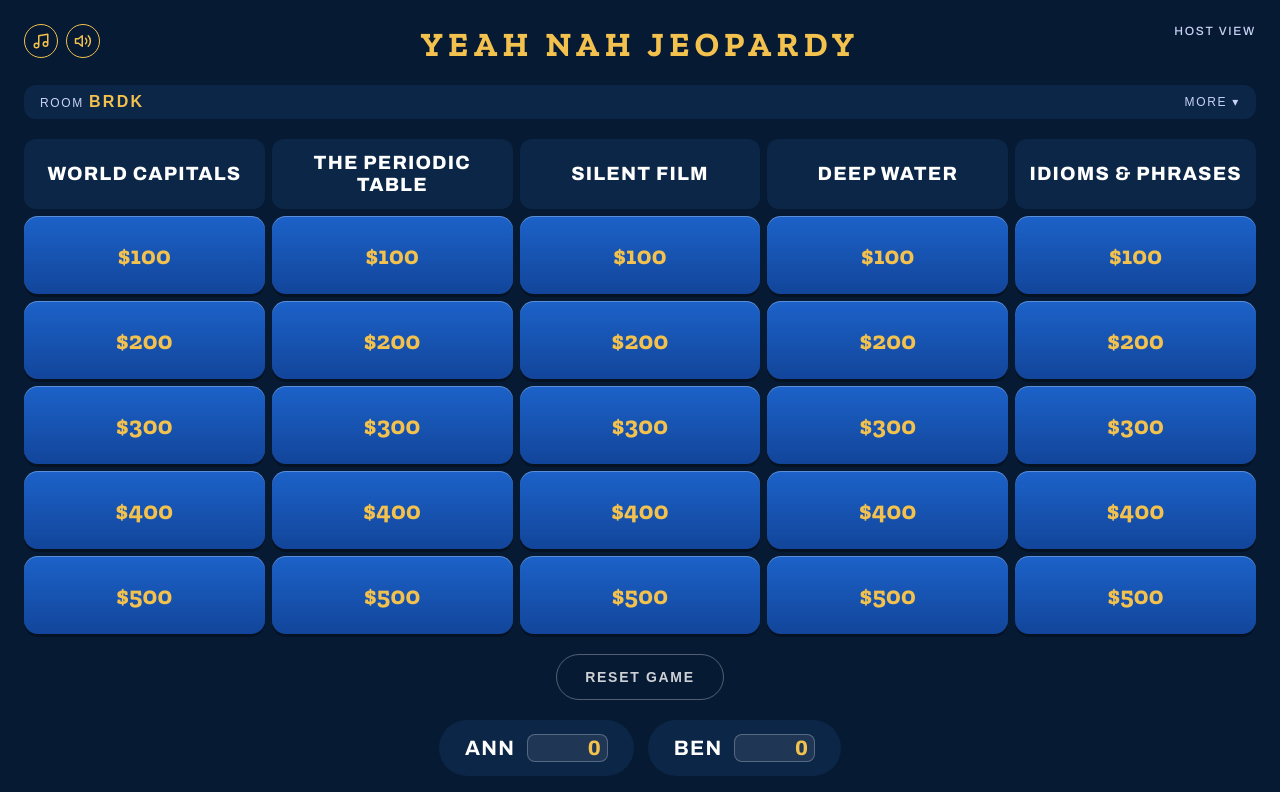
Test: HostPage Room panel › collapses to a Room Code strip during play, which expands on demand
Check: the text "2 Players" is not shown
What coordinates should you click on to do the following:
click the button "Room BRDK More ▾"
I would click on:
 (65, 103)
Its box is [24,85,1256,119].
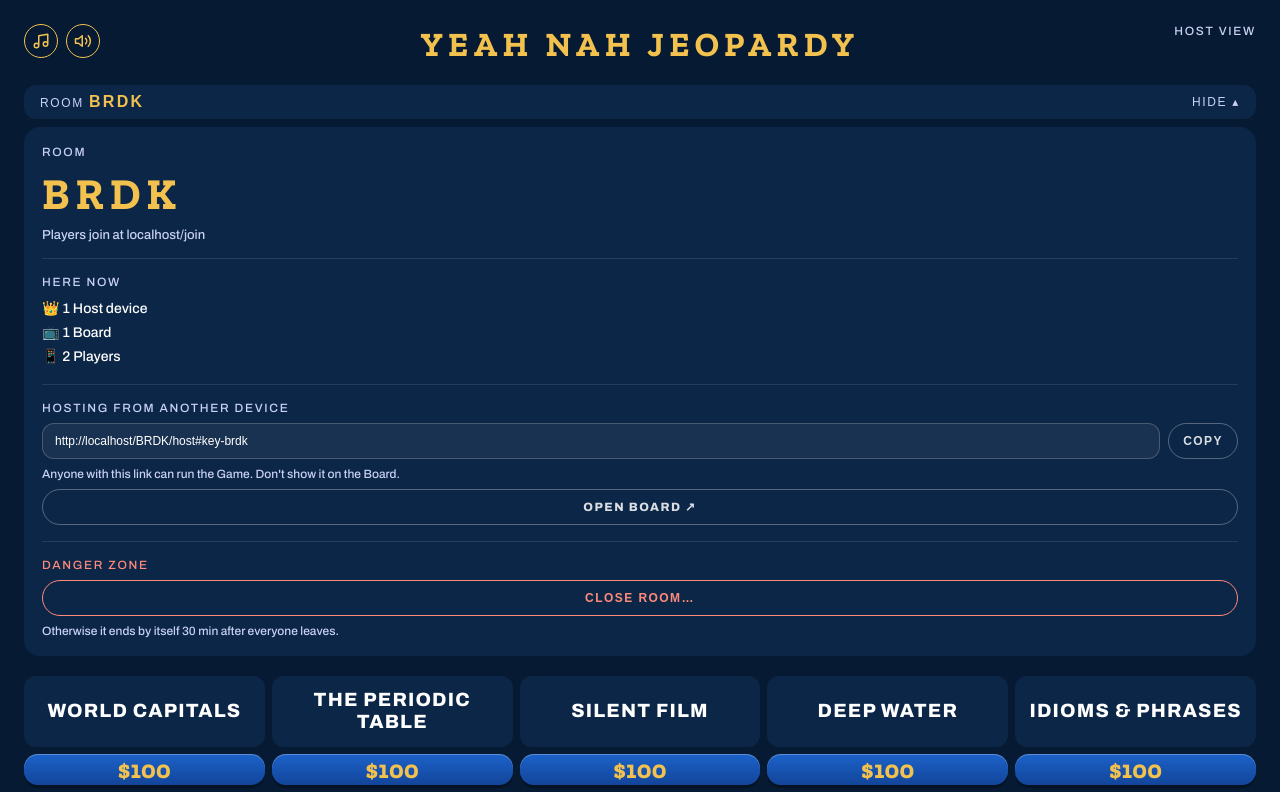
Check: the button "Room BRDK Hide ▴" is expanded
Check: the text "2 Players" is shown, box [62,349,121,364]
Check: the link "Open Board ↗" is shown, box [42,489,1238,525]
What coordinates should you click on to do the following:
click the button "Room BRDK Hide ▴"
I would click on:
 (65, 103)
Its box is [24,85,1256,119].
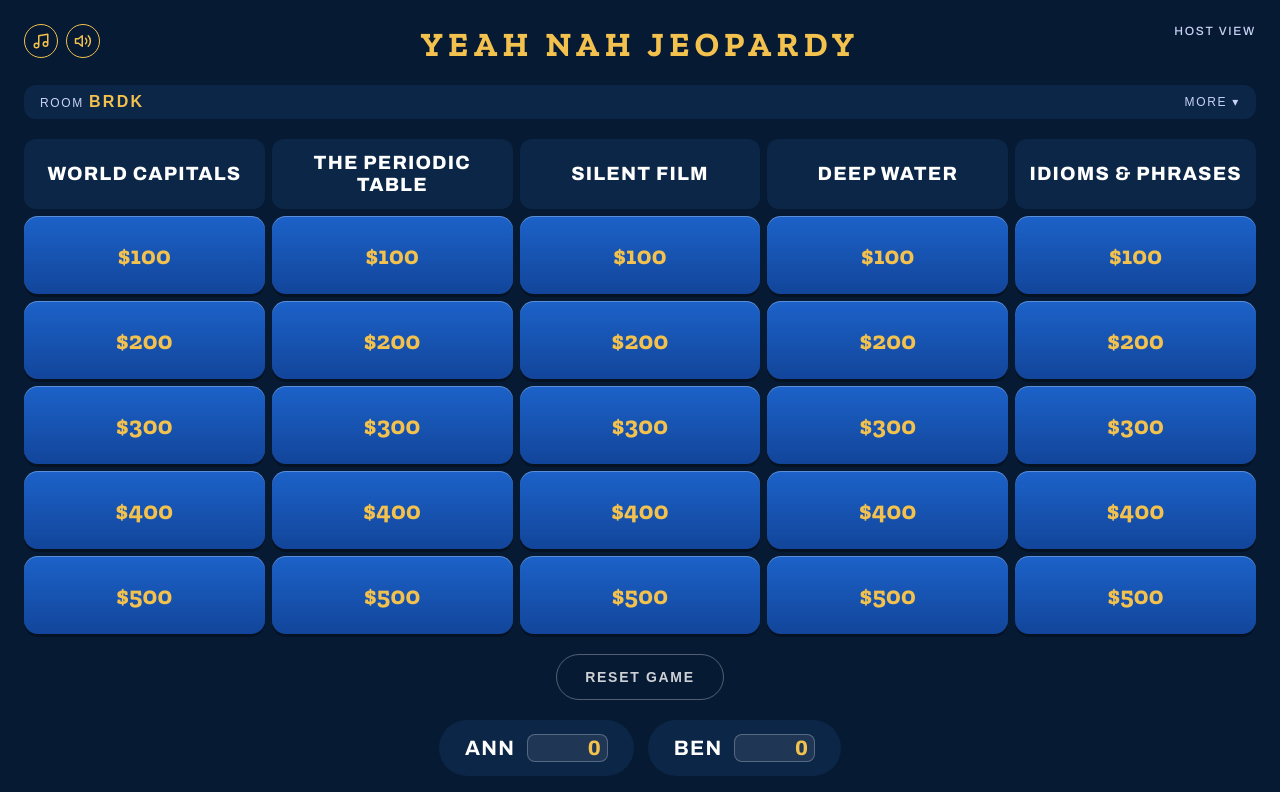
Check: the text "2 Players" is gone
